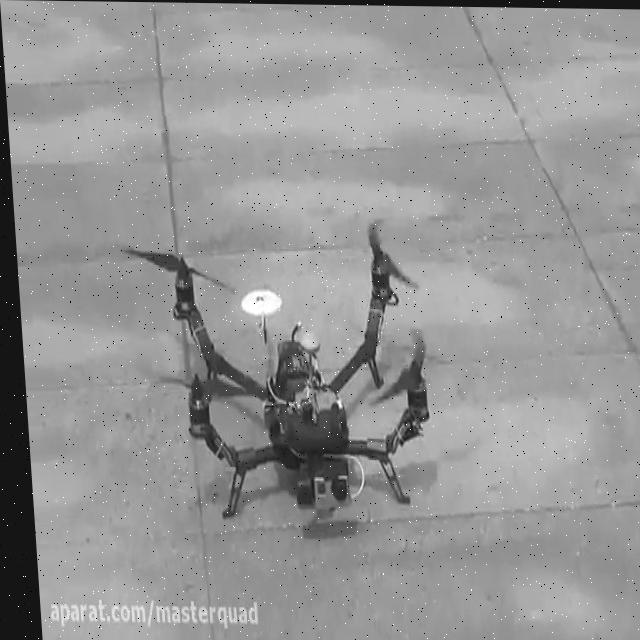drone: (114, 199, 444, 529)
